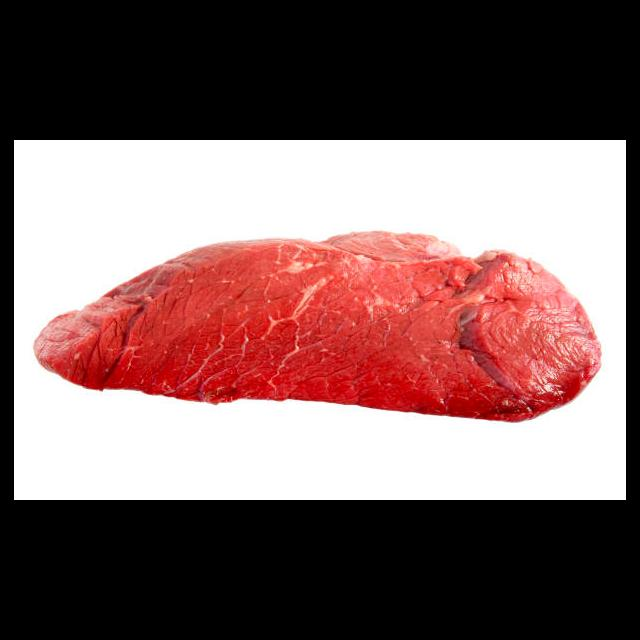beef: (31, 229, 603, 424)
